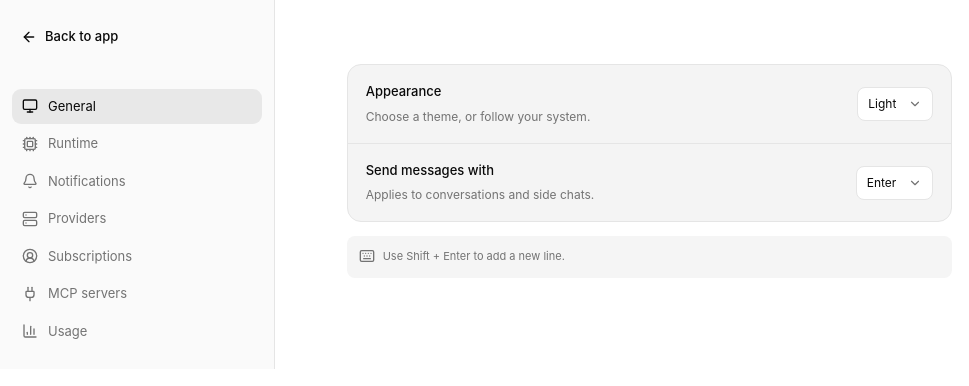
opens MCP settings with global status when no conversation is selected
The image size is (969, 386).
Click the button "MCP servers".
click(137, 294)  # box [12, 276, 262, 312]
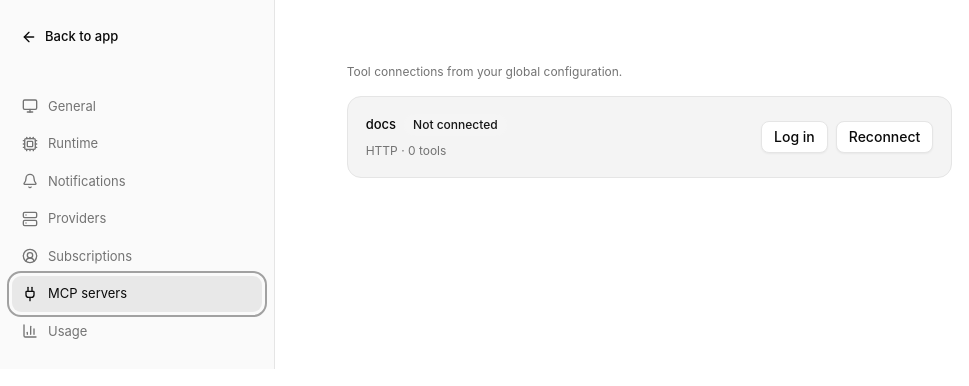
Result: the heading "docs" is shown at [366, 115, 396, 135]
Result: the element named "MCP server settings" is shown at [347, 64, 952, 178]
Result: the text "Tool connections from your global configuration." is shown at [347, 64, 622, 79]
